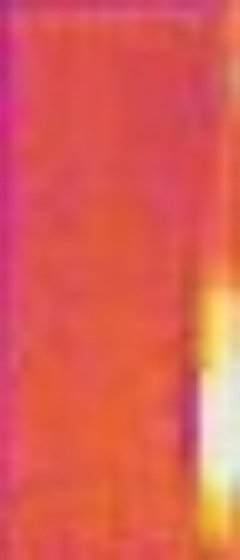Diode: (187, 254, 239, 548)
